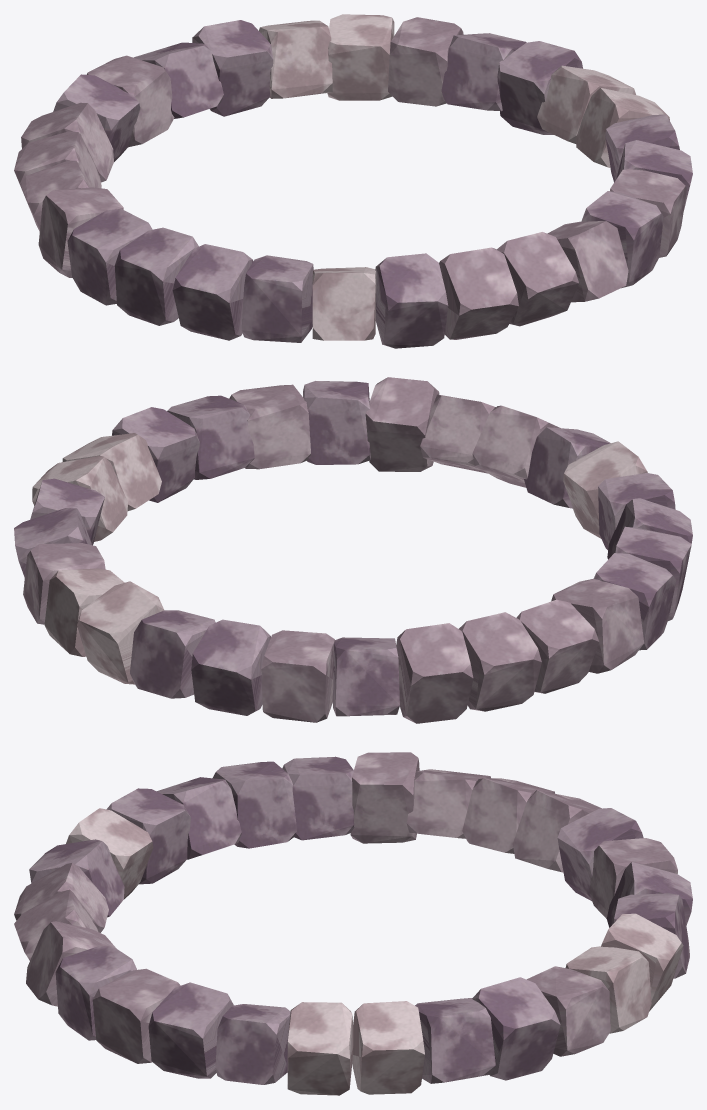
File: standard.glb
3 views of the same model, one above another, from view 1: azimuth 30°, elevation 25°; view 2: azimuth 150°, elevation 25°; view 3: azimuth 270°, elevation 25° (orthographic).
Visible parts, largest first — view 1: facet_kostka_3.004, facet_kostka_0.004, facet_kostka_0.005, facet_kostka_1.004, facet_kostka_3.003, facet_kostka_0.001, facet_kostka_1.005, facet_kostka_2.001, facet_kostka_3, facet_kostka_2.004, facet_kostka_1.001, facet_kostka_2.003 (+16 smaller); view 2: facet_kostka_2.002, facet_kostka_0.002, facet_kostka_3.001, facet_kostka_3.002, facet_kostka_2.005, facet_kostka_2.001, facet_kostka_1.002, facet_kostka_3.005, facet_kostka_1.001, facet_kostka_0.003, facet_kostka_0.006, facet_kostka_1.003 (+16 smaller); view 3: facet_kostka_0, facet_kostka_2, facet_kostka_1.006, facet_kostka_3.006, facet_kostka_1, facet_kostka_1.003, facet_kostka_2.006, facet_kostka_0.006, facet_kostka_3.003, facet_kostka_2.003, facet_kostka_3, facet_kostka_1.004 (+16 smaller).
Boxes of the visible parts, x1,y1,x2,y2 form: facet_kostka_3.004: (375, 253, 448, 348); facet_kostka_0.004: (172, 244, 253, 340); facet_kostka_0.005: (439, 247, 518, 339); facet_kostka_1.004: (241, 255, 313, 342); facet_kostka_3.003: (114, 227, 198, 325); facet_kostka_0.001: (327, 14, 394, 100); facet_kostka_1.005: (497, 232, 578, 326); facet_kostka_2.001: (192, 20, 273, 116); facet_kostka_3: (388, 17, 463, 106); facet_kostka_2.004: (312, 267, 376, 340); facet_kostka_1.001: (259, 20, 332, 98); facet_kostka_2.003: (67, 209, 152, 305); facet_kostka_2.002: (396, 623, 473, 723); facet_kostka_0.002: (261, 630, 335, 722); facet_kostka_3.001: (191, 619, 270, 715); facet_kostka_3.002: (459, 612, 541, 711); facet_kostka_2.005: (365, 377, 439, 471); facet_kostka_2.001: (130, 610, 215, 698); facet_kostka_1.002: (333, 637, 399, 716); facet_kostka_3.005: (303, 381, 370, 464); facet_kostka_1.001: (77, 581, 164, 684); facet_kostka_0.003: (516, 599, 598, 693); facet_kostka_0.006: (229, 384, 310, 469); facet_kostka_1.003: (551, 578, 644, 673); facet_kostka_0: (352, 1001, 424, 1094); facet_kostka_2: (472, 977, 560, 1080); facet_kostka_1.006: (148, 982, 233, 1078); facet_kostka_3.006: (287, 1002, 353, 1095); facet_kostka_1: (415, 998, 495, 1083); facet_kostka_1.003: (350, 752, 419, 843); facet_kostka_2.006: (215, 1004, 290, 1084); facet_kostka_0.006: (92, 968, 180, 1063); facet_kostka_3.003: (212, 761, 296, 848); facet_kostka_2.003: (282, 756, 354, 840); facet_kostka_3: (526, 966, 610, 1056); facet_kostka_1.004: (106, 788, 190, 884).
Bounding box in the file's own units: 6.29 × 0.8514 × 6.28.
Materials: 3 (3 with a texture image).
